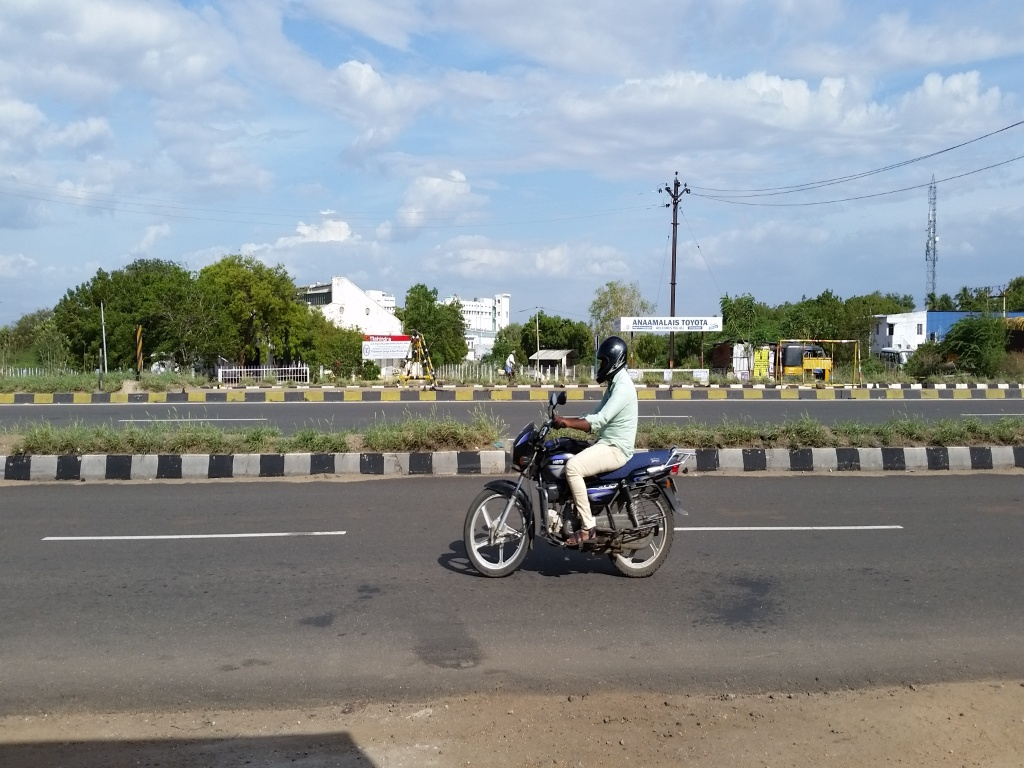biker: (445, 310, 699, 586)
helmet: (584, 332, 640, 390)
